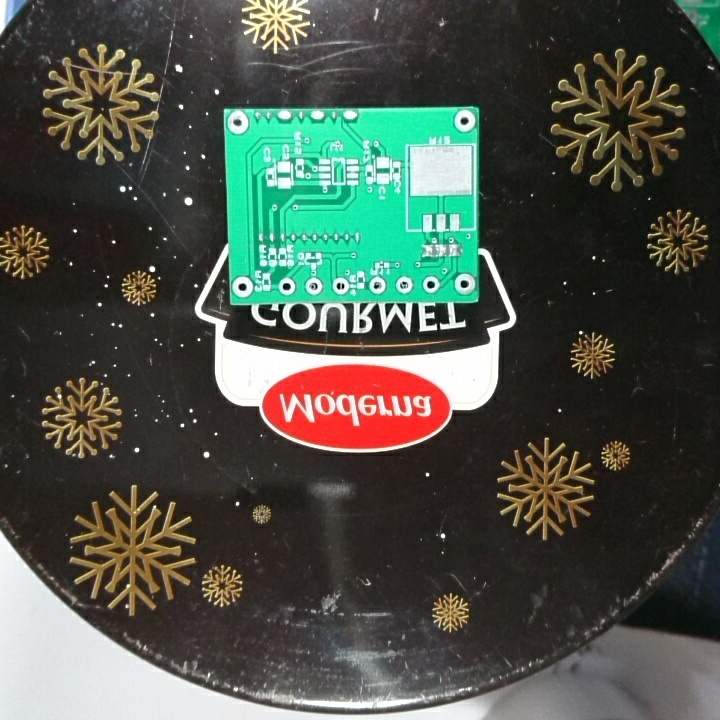F: (225, 109, 251, 136), (451, 109, 477, 134), (230, 275, 254, 300), (453, 272, 477, 297), (393, 273, 417, 296), (329, 273, 351, 297), (366, 274, 389, 295), (276, 275, 297, 296), (302, 276, 325, 295), (421, 273, 440, 295)
P: (306, 109, 330, 123), (339, 108, 360, 123), (275, 108, 295, 123)
